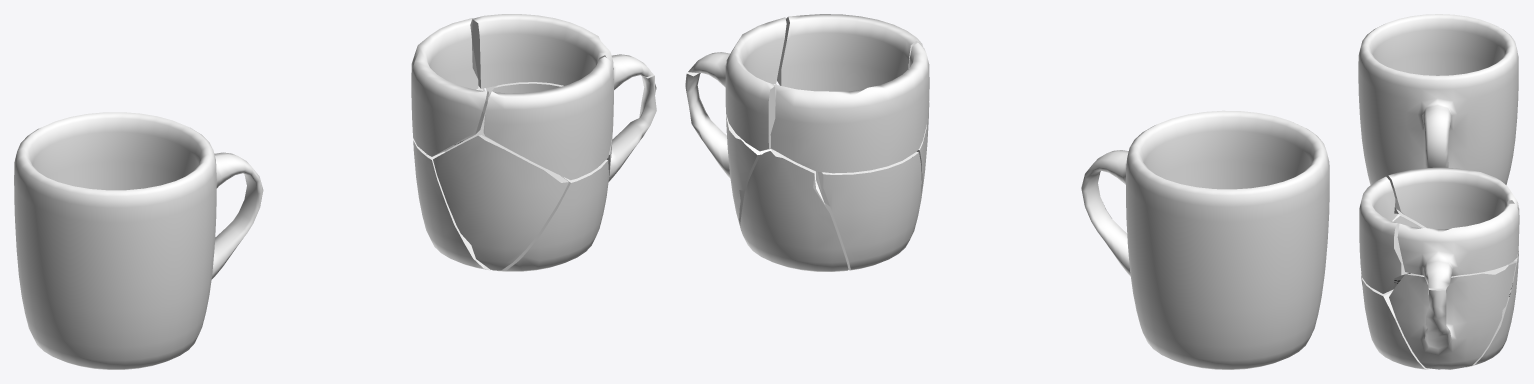
File: mug.fbx
3 renders of one model, left to right at view 1: azimuth 30°, elevation 25°; view 2: azimuth 150°, elevation 25°; view 3: azimuth 270°, elevation 25°, orthographic. The views are drawn at different scales.
Parts seen in each view (by area): view 1: mug, mug_cell.001, mug_cell.004, mug_cell.006, mug_cell.003, mug_cell.005, mug_cell.002, mug_cell.007; view 2: mug, mug_cell.003, mug_cell.004, mug_cell, mug_cell.002, mug_cell.006, mug_cell.007; view 3: mug, mug_cell.007, mug_cell.006, mug_cell.003, mug_cell.004, mug_cell.005, mug_cell, mug_cell.001.
Part boxes in pixels (x1,y1,x2,y2): mug: [14, 112, 263, 369]; mug_cell.001: [433, 135, 568, 270]; mug_cell.004: [483, 56, 613, 180]; mug_cell.006: [472, 14, 652, 89]; mug_cell.003: [411, 18, 488, 156]; mug_cell.005: [497, 159, 609, 271]; mug_cell.002: [413, 138, 490, 270]; mug_cell.007: [486, 73, 656, 181]; mug: [1081, 110, 1329, 369]; mug_cell.003: [770, 42, 929, 173]; mug_cell.004: [777, 14, 922, 91]; mug_cell: [740, 150, 848, 271]; mug_cell.002: [816, 152, 921, 270]; mug_cell.006: [688, 17, 786, 151]; mug_cell.007: [685, 72, 776, 230]; mug: [1358, 14, 1518, 209]; mug_cell.007: [1389, 261, 1516, 369]; mug_cell.006: [1397, 203, 1518, 288]; mug_cell.003: [1387, 167, 1519, 245]; mug_cell.004: [1359, 176, 1410, 293]; mug_cell.005: [1362, 278, 1430, 369]; mug_cell: [1465, 249, 1518, 367]; mug_cell.001: [1361, 209, 1426, 289].
Size of the model in its own units: 63.09 by 18.08 by 17.75.
